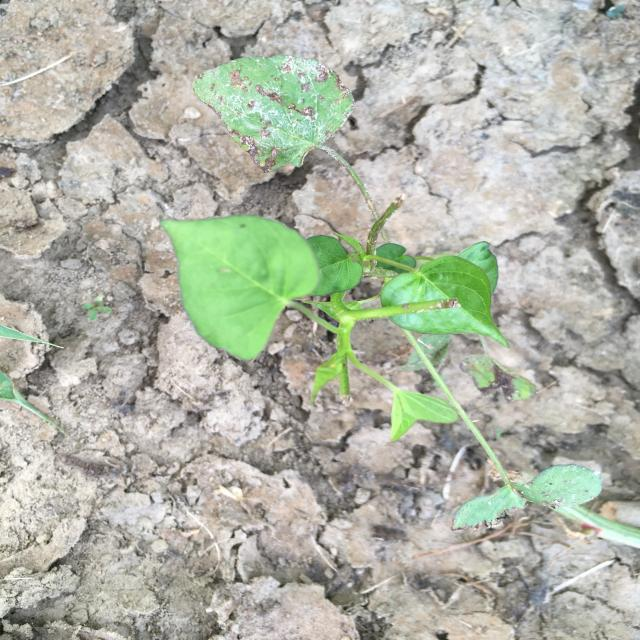MorningGlory: (158, 54, 604, 532)
